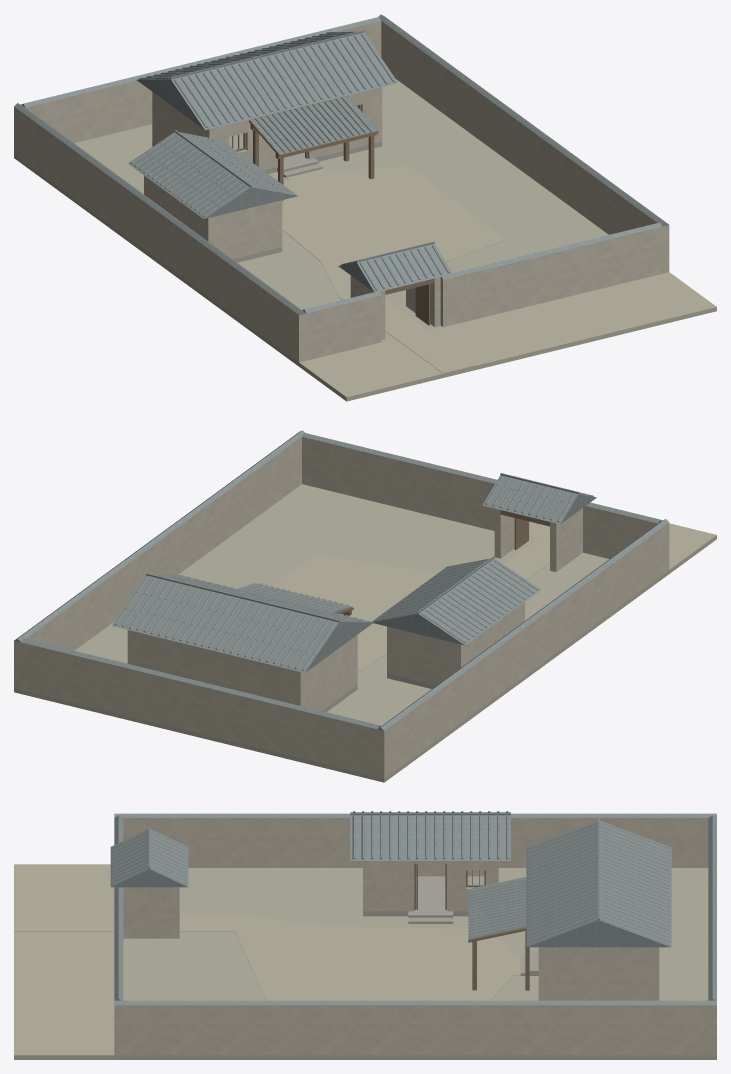
Rendered from A2-deep.glb.
3 views of the same model, one above another, from view 1: azimuth 30°, elevation 25°; view 2: azimuth 150°, elevation 25°; view 3: azimuth 270°, elevation 25° (orthographic). The views are drawn at different scales.
Visible parts, largest first — view 1: architecture_C_whitebox_earth_wall.001, architecture_C_roof_rhythm_not_glaze_copy.001, site_lot, designed_hardpacked_activity_ground, site_neutral_lane, C_TRANSITION_tile_shells, architecture_C_floor_plinth.001, architecture_C_plain_timber.001; view 2: architecture_C_whitebox_earth_wall.001, architecture_C_roof_rhythm_not_glaze_copy.001, site_lot, designed_hardpacked_activity_ground, site_neutral_lane, C_TRANSITION_tile_shells, architecture_C_plain_timber.001; view 3: architecture_C_whitebox_earth_wall.001, architecture_C_roof_rhythm_not_glaze_copy.001, site_lot, designed_hardpacked_activity_ground, site_neutral_lane, C_TRANSITION_tile_shells, architecture_C_floor_plinth.001, architecture_C_plain_timber.001.
Boxes of the visible parts, box(x1,y1,x2,y2) form: architecture_C_whitebox_earth_wall.001: box(14, 21, 669, 362); architecture_C_roof_rhythm_not_glaze_copy.001: box(14, 14, 668, 314); site_lot: box(14, 79, 608, 366); designed_hardpacked_activity_ground: box(282, 166, 504, 373); site_neutral_lane: box(299, 272, 716, 401); C_TRANSITION_tile_shells: box(250, 96, 377, 154); architecture_C_floor_plinth.001: box(152, 133, 382, 262); architecture_C_plain_timber.001: box(232, 105, 434, 325); architecture_C_whitebox_earth_wall.001: box(14, 437, 669, 778); architecture_C_roof_rhythm_not_glaze_copy.001: box(14, 430, 669, 730); site_lot: box(14, 484, 669, 782); designed_hardpacked_activity_ground: box(271, 530, 549, 670); site_neutral_lane: box(529, 521, 716, 573); C_TRANSITION_tile_shells: box(237, 583, 352, 612); architecture_C_plain_timber.001: box(500, 510, 549, 549); architecture_C_whitebox_earth_wall.001: box(114, 818, 716, 1055); architecture_C_roof_rhythm_not_glaze_copy.001: box(110, 811, 716, 1005); site_lot: box(114, 868, 716, 1059); designed_hardpacked_activity_ground: box(14, 914, 520, 1000); site_neutral_lane: box(14, 864, 114, 1059); C_TRANSITION_tile_shells: box(468, 877, 526, 939); architecture_C_floor_plinth.001: box(363, 876, 538, 975); architecture_C_plain_timber.001: box(414, 863, 485, 909).
Bounding box in the file's own units: 18 × 4.49 × 28.
Materials: 6 (3 with a texture image).
